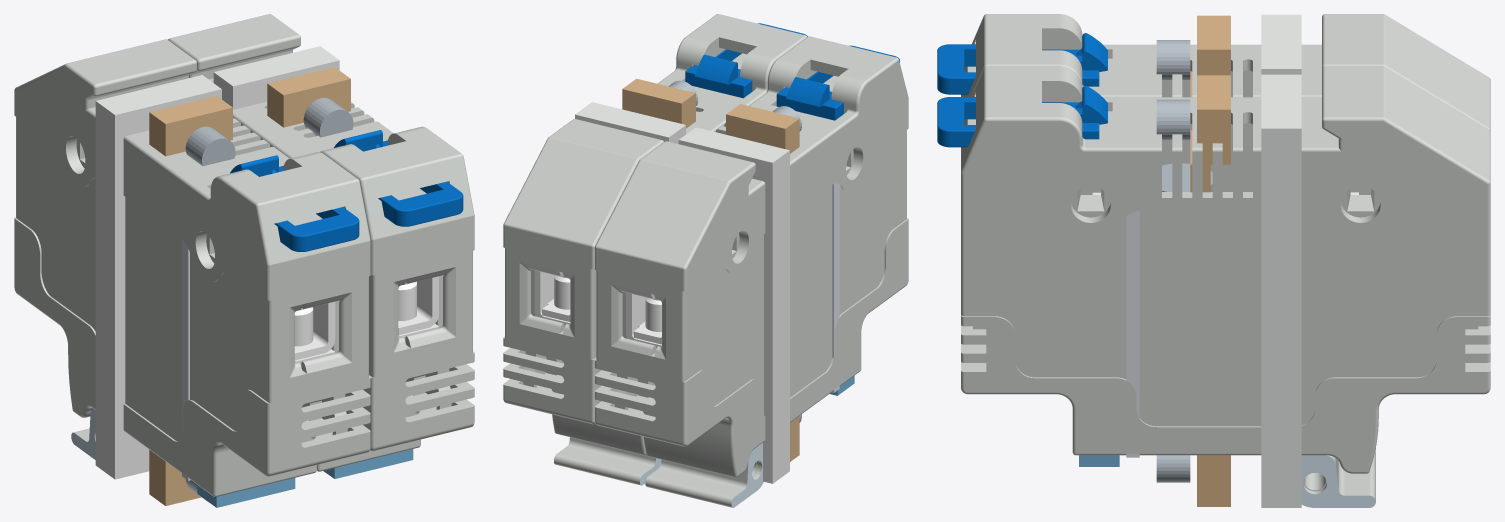
The model's file is model-4eb9d582bba0.glb.
3 views of the same model, side by side, from view 1: azimuth 30°, elevation 25°; view 2: azimuth 150°, elevation 25°; view 3: azimuth 270°, elevation 25° (orthographic). The views are drawn at different scales.
Visible parts, largest first — view 1: factory_021, factory_019, factory_001, housing_000, factory_003, housing_013, terminals_024, terminals_011, factory_022, factory_004, terminals_008, factory_023 (+9 smaller); view 2: factory_021, factory_019, factory_001, housing_000, factory_003, factory_020, factory_002, terminals_011, terminals_024, housing_013, factory_004, factory_022 (+5 smaller); view 3: factory_001, factory_019, housing_013, factory_003, factory_021, factory_002, factory_022, factory_004, terminals_024, carrier_014, housing_000, terminals_011 (+5 smaller).
Boxes of the visible parts, x1,y1,x2,y2 form: factory_021: (14,61,302,496); factory_019: (76,39,370,494); factory_001: (180,14,474,468); housing_000: (95,75,221,479); factory_003: (167,36,406,471); housing_013: (213,46,339,109); terminals_024: (267,67,350,127); terminals_011: (149,96,232,156); factory_022: (230,155,359,251); factory_004: (334,130,463,226); terminals_008: (149,450,201,505); factory_023: (294,301,335,365); factory_021: (654,55,908,477); factory_019: (595,36,888,475); factory_001: (503,14,796,452); housing_000: (678,127,789,483); factory_003: (562,33,806,454); factory_020: (645,443,763,507); factory_002: (554,437,661,485); terminals_011: (726,104,799,153); terminals_024: (622,78,695,128); housing_013: (575,102,685,143); factory_004: (685,23,807,98); factory_022: (776,45,899,120); factory_001: (961,71,1490,473); factory_019: (961,19,1490,131); housing_013: (1261,74,1301,507); factory_003: (972,66,1490,345); factory_021: (972,14,1490,97); factory_002: (1301,450,1375,507); factory_022: (937,33,1107,94); factory_004: (937,86,1107,147); terminals_024: (1197,75,1230,164); carrier_014: (1126,211,1139,457); housing_000: (1261,14,1301,74); terminals_011: (1197,15,1230,75).
Bounding box in the file's own units: 0.04 × 0.065 × 0.082.
